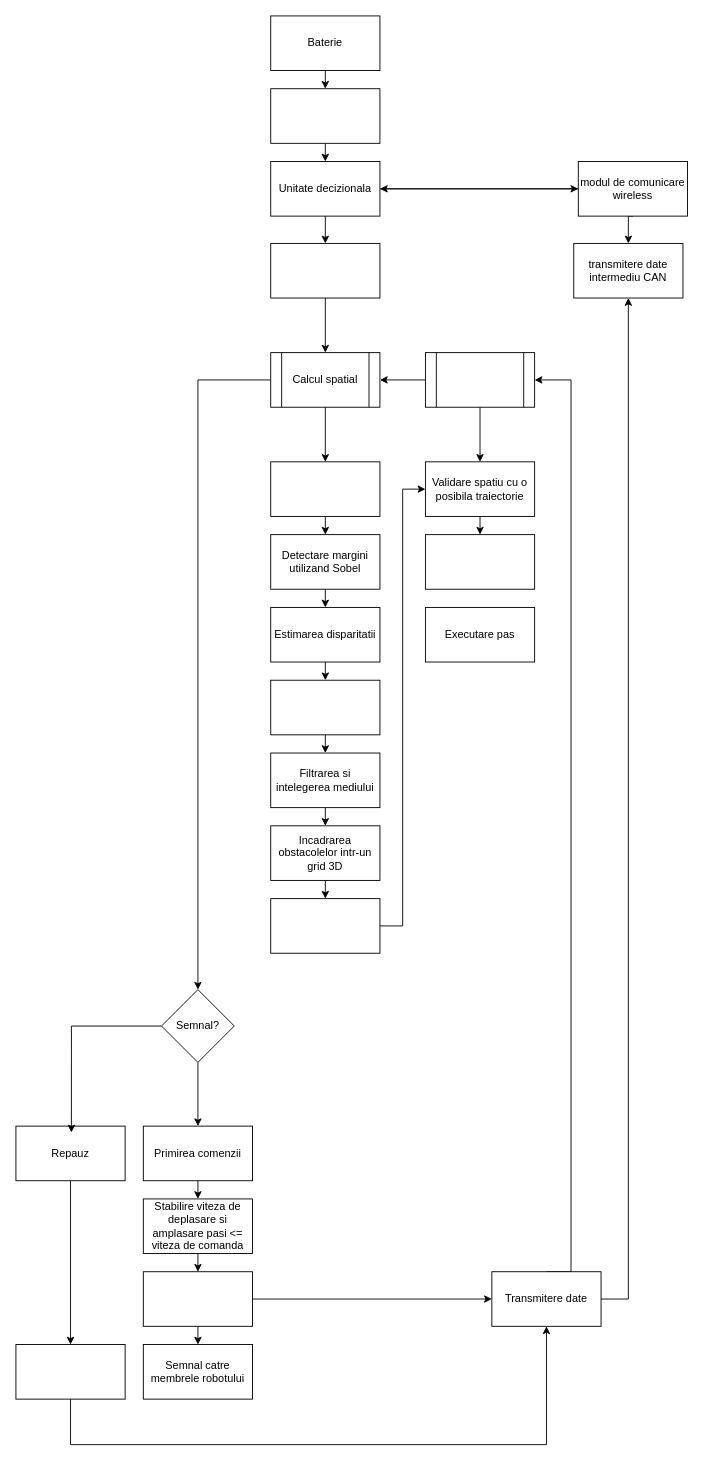
Image size: 703x1468. Some labels were removed from this diagram. The shapes that lost their labels are listed below. From the top down, each one's centre as x and y in pixels, then its label:
the point at 325,115: Regulator de tensiune
the point at 325,270: Setare conditie initiala motoare
the point at 480,379: Calcul traiectorie
the point at 325,488: Rectificare si alinierea imaginilor
the point at 480,561: Estimare pozitionare pas
the point at 325,707: Crearea unui point cloud
the point at 325,925: Aproximarea spatiului ce poate fi parcurs
the point at 197,1298: Navigare
the point at 70,1371: Comprimare imagini
